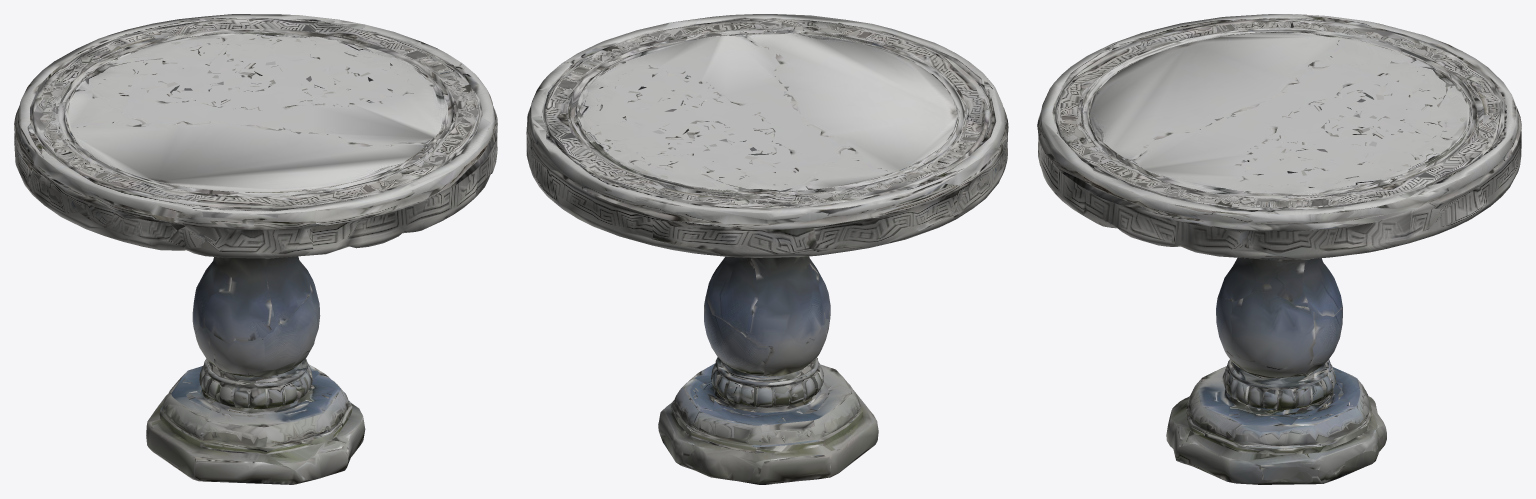
Rendered from stoneTable-compressed.glb.
3 renders of one model, left to right at view 1: azimuth 30°, elevation 25°; view 2: azimuth 150°, elevation 25°; view 3: azimuth 270°, elevation 25°, orthographic.
Visible parts, largest first — view 1: node_0; view 2: node_0; view 3: node_0.
Part boxes in pixels (box(x1,y1,x2,y2)): node_0: box(14, 14, 497, 484); node_0: box(526, 14, 1008, 484); node_0: box(1037, 14, 1521, 484).
Size of the model in its own units: 1 by 0.7498 by 0.9979.
Materials: 1 (1 with a texture image).
